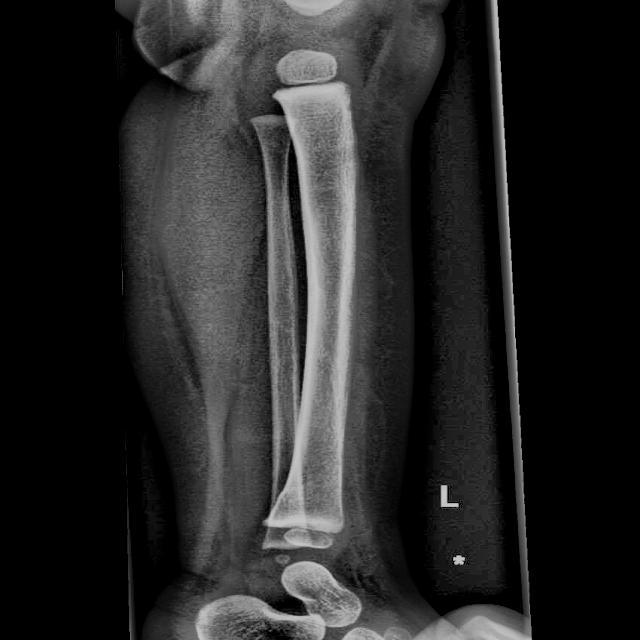fracture: (276, 478, 316, 500)
